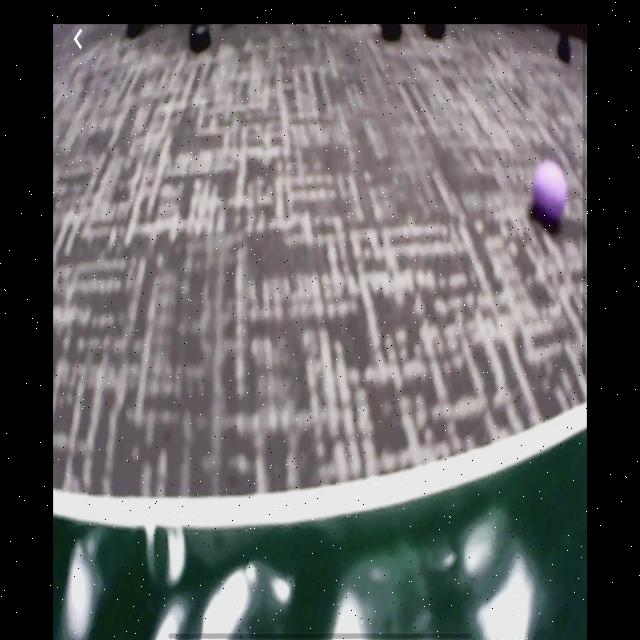ball: (532, 158, 569, 220)
